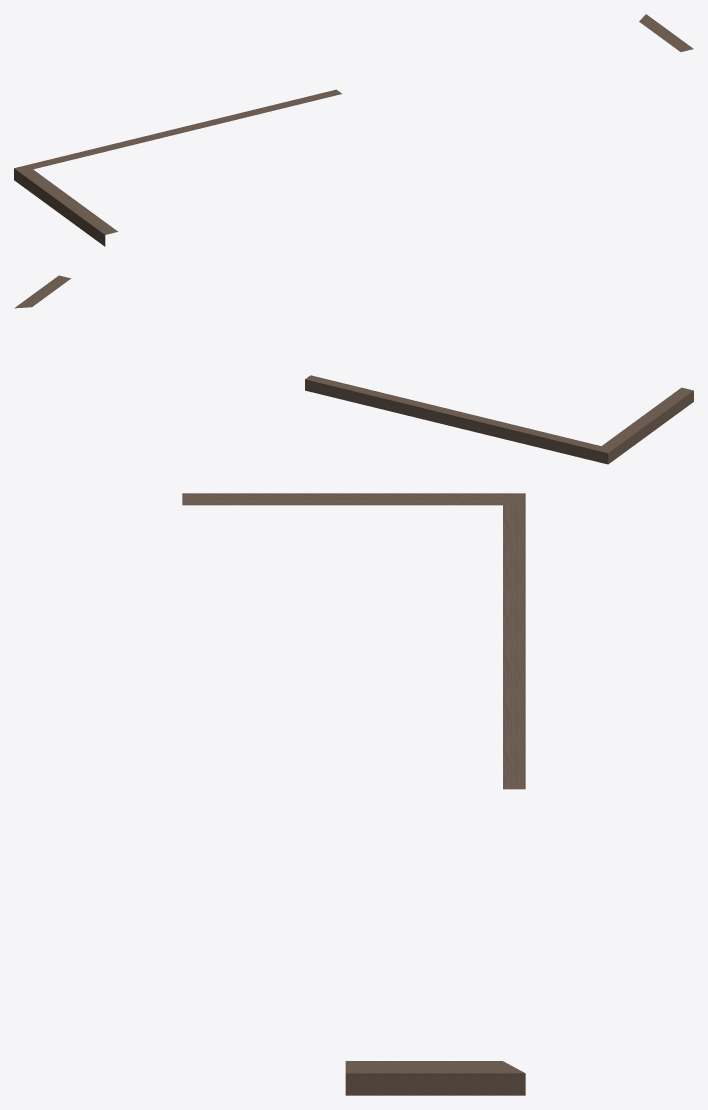
File: kd_stage_135ded_4_10_exterior.glb
The picture shows the model from 3 angles, top to bottom: view 1: azimuth 30°, elevation 25°; view 2: azimuth 150°, elevation 25°; view 3: azimuth 270°, elevation 25°; orthographic projection. The views are drawn at different scales.
Visible parts, largest first — view 1: kd_stage_135ded_4_10_exterior; view 2: kd_stage_135ded_4_10_exterior; view 3: kd_stage_135ded_4_10_exterior.
Boxes of the visible parts, x1=… form: kd_stage_135ded_4_10_exterior: x1=14, y1=14, x2=693, y2=246; kd_stage_135ded_4_10_exterior: x1=14, y1=275, x2=693, y2=464; kd_stage_135ded_4_10_exterior: x1=182, y1=493, x2=525, y2=1095.
Bounding box in the file's own units: 7.15 × 0.1289 × 1.79.
1 material, 1 textured.
